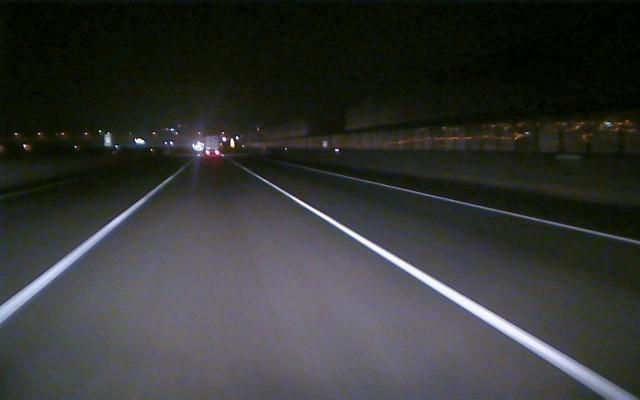lane: (260, 176, 634, 396), (2, 182, 162, 323), (349, 176, 640, 245)
